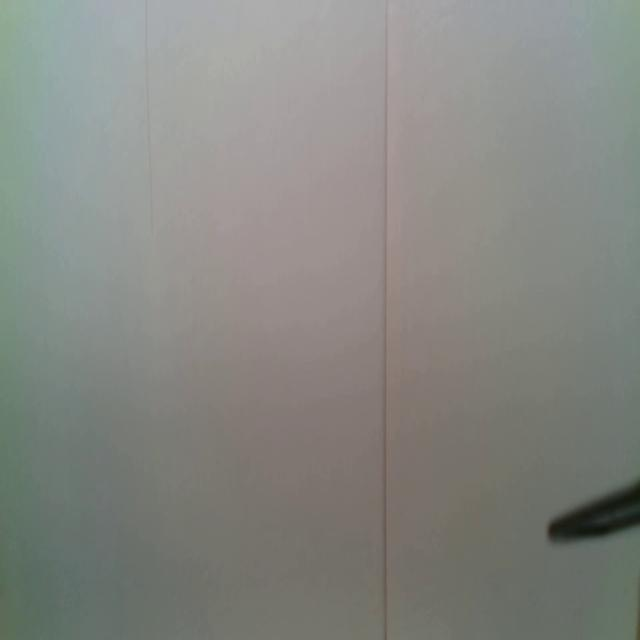crease: (382, 0, 390, 639), (144, 0, 156, 233)
